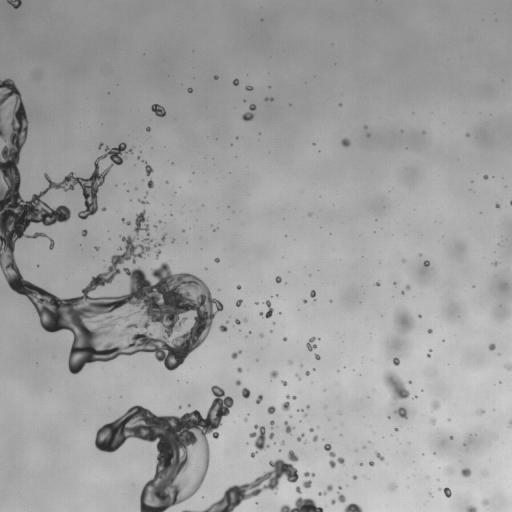droplet: (382, 371, 409, 401), (394, 308, 413, 333), (260, 300, 273, 318), (493, 304, 508, 318), (151, 104, 165, 116), (306, 337, 316, 351), (144, 161, 153, 176), (395, 407, 407, 418), (284, 421, 294, 434), (6, 0, 21, 8), (461, 468, 471, 477), (242, 388, 250, 398), (341, 138, 350, 146), (431, 401, 440, 409), (302, 480, 311, 488), (270, 370, 278, 378), (267, 406, 275, 414), (461, 441, 468, 450), (338, 493, 345, 502), (466, 505, 476, 511), (219, 325, 227, 332), (297, 433, 304, 441), (147, 179, 153, 188), (393, 357, 399, 365), (256, 395, 262, 403), (310, 290, 315, 299), (275, 276, 281, 283), (236, 299, 242, 306), (389, 484, 396, 490), (423, 260, 429, 266), (489, 344, 495, 350), (505, 364, 511, 370), (446, 468, 452, 474), (482, 499, 488, 505), (233, 78, 238, 85), (82, 229, 87, 236), (296, 486, 301, 493), (245, 86, 253, 90), (477, 409, 483, 414), (430, 418, 435, 424), (269, 432, 274, 438), (312, 435, 317, 441), (270, 420, 274, 427), (235, 319, 240, 324), (315, 354, 320, 359), (237, 367, 242, 372), (369, 461, 374, 466), (98, 143, 102, 148), (94, 246, 99, 250), (214, 258, 219, 262), (236, 285, 241, 289), (405, 285, 410, 289), (296, 374, 300, 379), (236, 380, 240, 385), (282, 381, 287, 385), (331, 499, 335, 504), (214, 75, 218, 79), (188, 88, 192, 92), (146, 127, 150, 131), (483, 175, 487, 179), (375, 282, 379, 286), (428, 329, 432, 333), (305, 371, 309, 375), (309, 427, 313, 431), (495, 204, 499, 207), (102, 207, 105, 211), (289, 360, 292, 364), (352, 476, 356, 479), (466, 133, 469, 136), (154, 225, 157, 228), (171, 239, 174, 242), (118, 247, 121, 250), (402, 259, 405, 262), (494, 262, 497, 265), (303, 299, 306, 302), (260, 333, 263, 336), (283, 337, 286, 340), (306, 405, 309, 408), (281, 441, 284, 444), (339, 103, 341, 106), (364, 126, 367, 128), (401, 291, 404, 293), (178, 406, 181, 408), (304, 413, 306, 416), (395, 428, 397, 431), (450, 436, 452, 439), (360, 463, 362, 466), (339, 486, 341, 489), (367, 134, 369, 136), (309, 213, 311, 215), (182, 230, 184, 232), (244, 319, 246, 321), (427, 354, 429, 356), (299, 409, 301, 411)
ligament: (0, 80, 223, 374), (94, 387, 233, 511), (201, 450, 298, 511), (280, 496, 323, 511), (249, 424, 268, 457), (324, 443, 344, 467), (154, 235, 165, 258), (281, 395, 296, 411), (242, 104, 255, 121), (318, 484, 332, 495), (344, 503, 363, 511), (439, 487, 451, 497), (231, 350, 241, 358), (376, 452, 384, 460), (49, 238, 54, 249), (121, 219, 130, 225), (138, 199, 147, 204), (304, 472, 314, 476), (265, 97, 273, 100), (508, 419, 511, 427), (182, 510, 196, 511), (510, 201, 511, 204)
